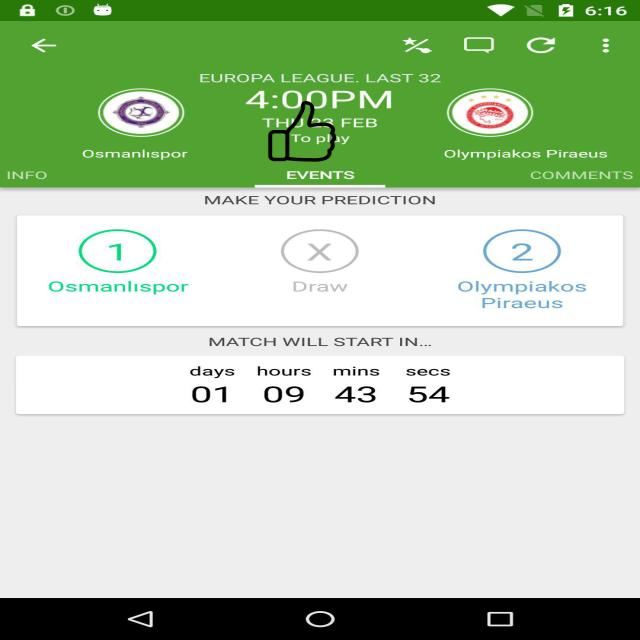privacy zuckering: (267, 101, 337, 162)
